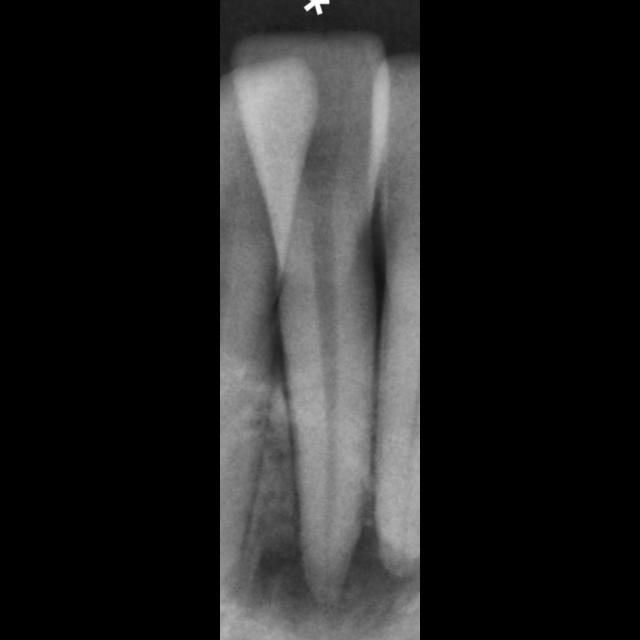tooth: (226, 29, 390, 607)
